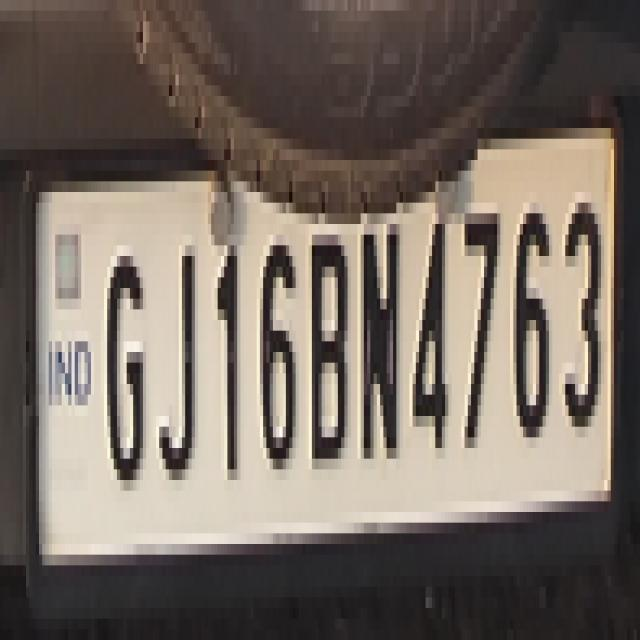1: (213, 241, 249, 492)
3: (561, 190, 604, 452)
4: (408, 212, 454, 466)
6: (508, 193, 555, 447), (257, 235, 301, 479)
7: (456, 187, 503, 450)
B: (306, 222, 354, 483)
G: (100, 239, 150, 491)
J: (154, 237, 202, 496)
N: (358, 210, 402, 468)
